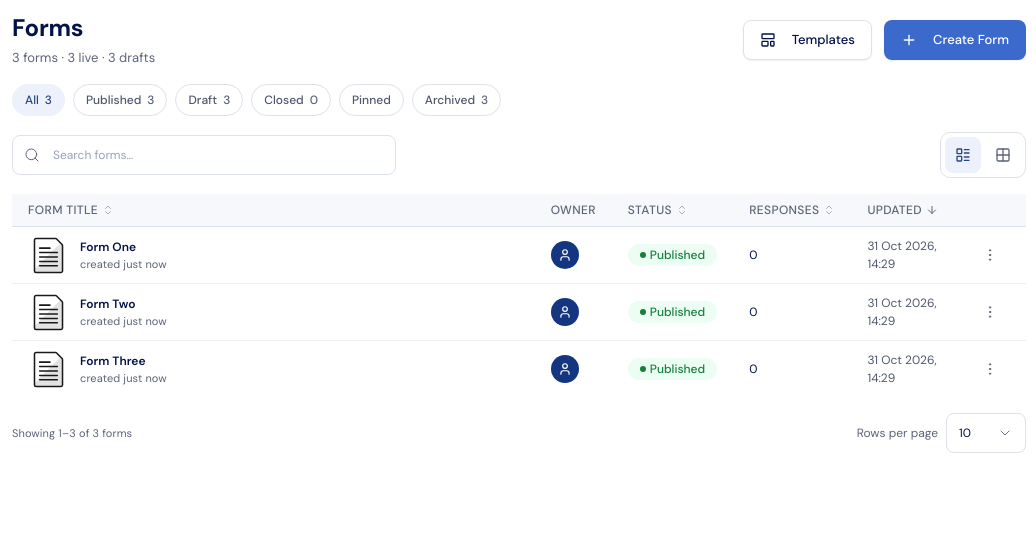
Scenario: WorkspaceFormsPage — FormsPage rendered with workspace context › bulk selection and delete (task 6.4) › shows no bulk action bar until a row is selected, then shows the count
Check: the text "selected" is not shown
Double-click the link "Form One" at (108, 247), box [80,238,136,256]
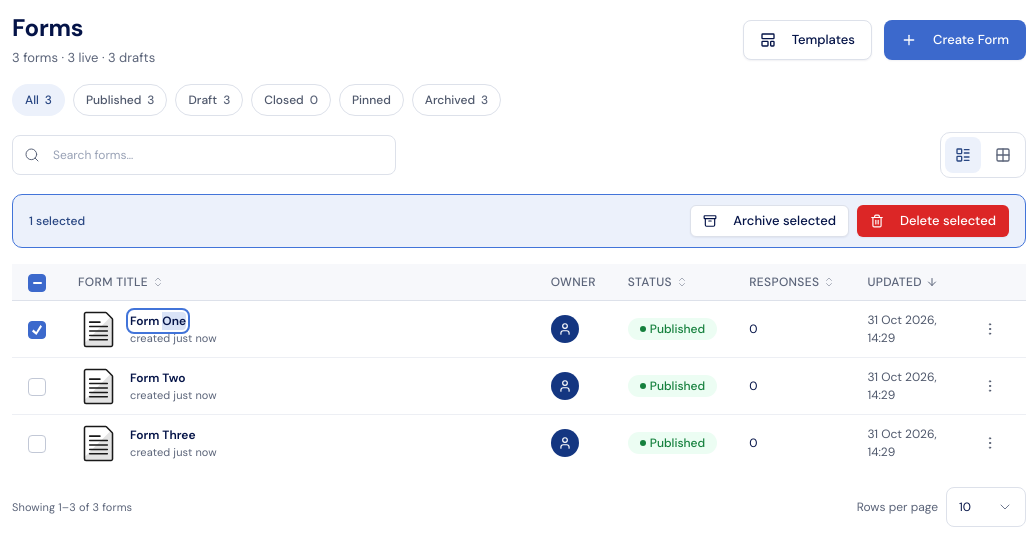
Check: the text "1 selected" is shown, box [29,212,85,230]
Click the checkbox named "Select Form Two" at (37, 387), box [28,378,46,396]
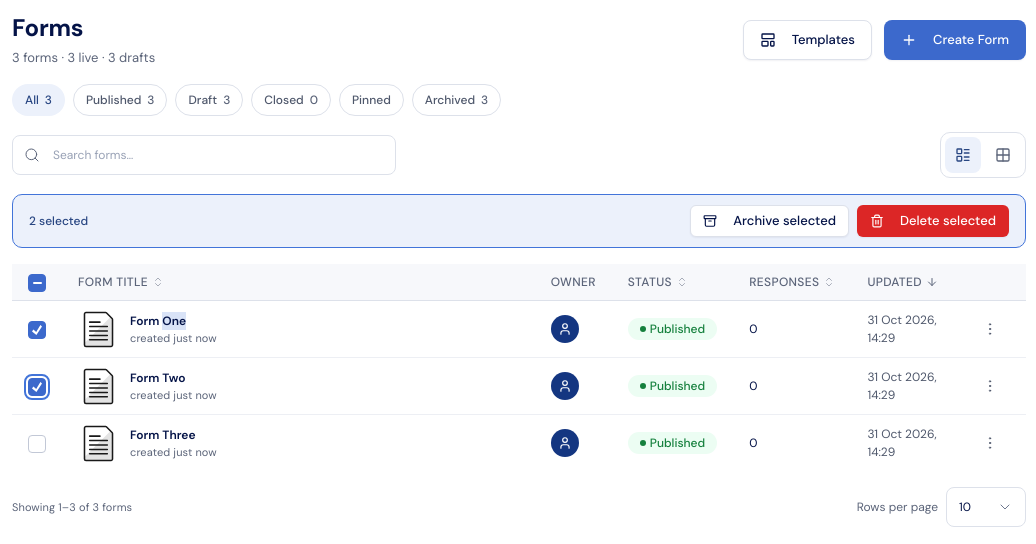
Check: the text "2 selected" is shown, box [29,212,88,230]
